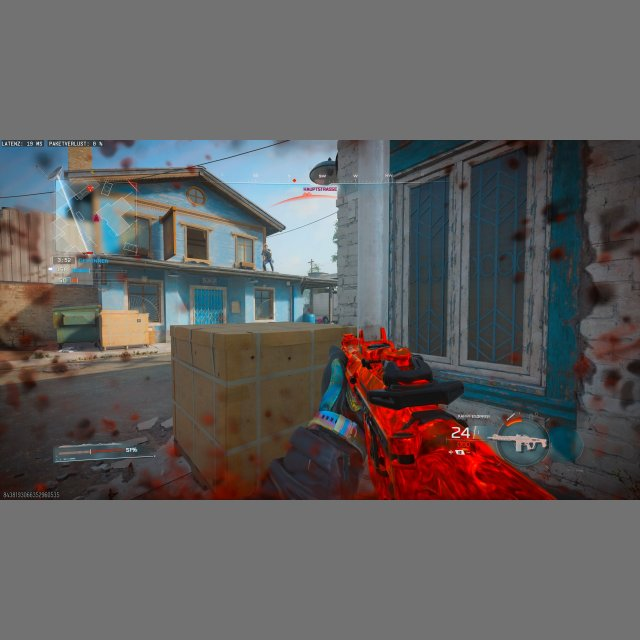player: (262, 245, 274, 271)
